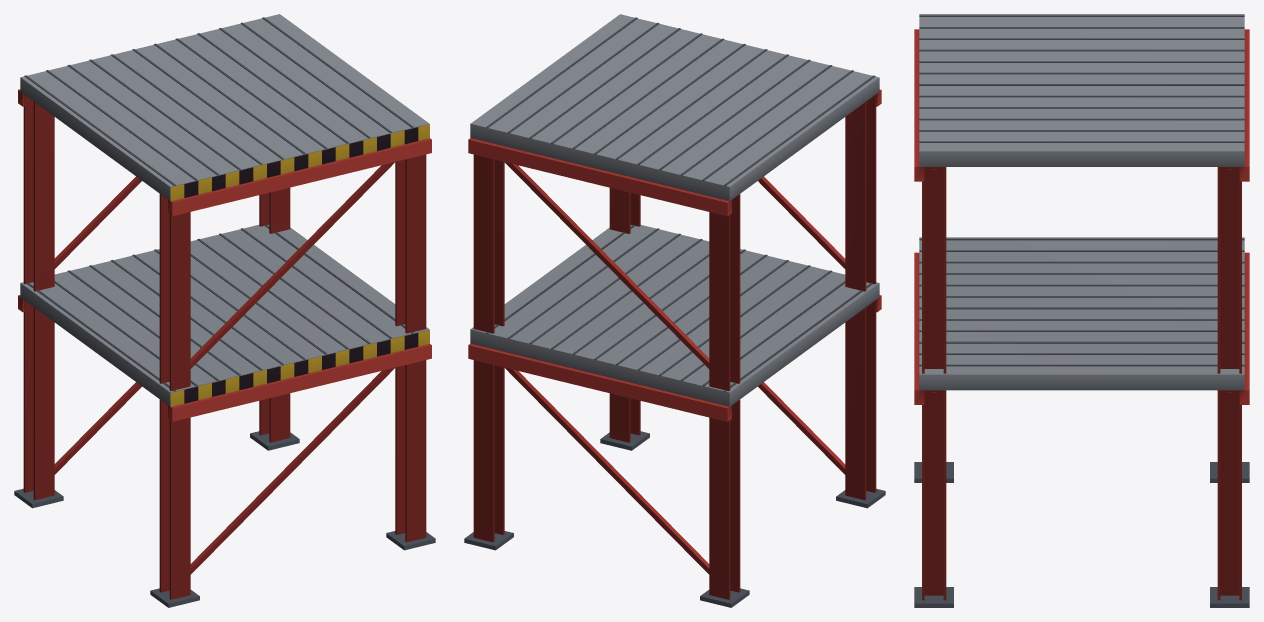
File: y_frame.glb
The picture shows the model from 3 angles, left to right: view 1: azimuth 30°, elevation 25°; view 2: azimuth 150°, elevation 25°; view 3: azimuth 270°, elevation 25°; orthographic projection. The views are drawn at different scales.
Visible parts, largest first — view 1: y_frame; view 2: y_frame; view 3: y_frame.
Boxes of the visible parts, x1,y1,x2,y2 form: y_frame: (14,14,435,607); y_frame: (464,14,885,607); y_frame: (914,14,1249,607).
Bounding box in the file's own units: 6.8 × 10.19 × 6.8.
